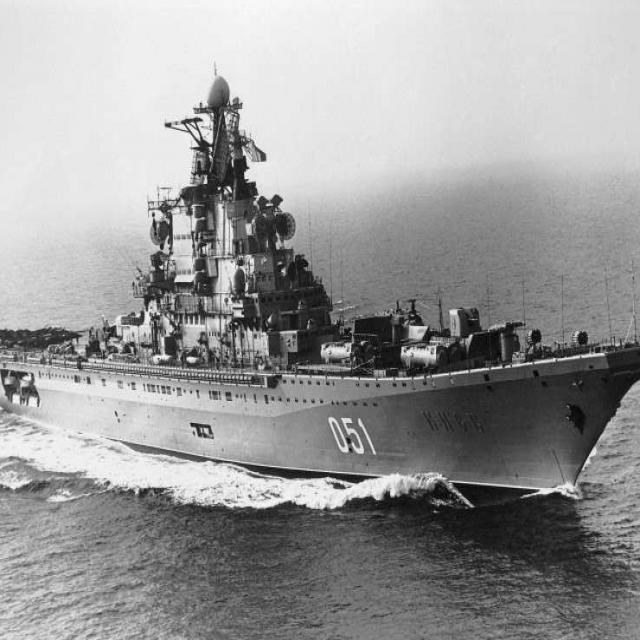Portanaves: (1, 49, 640, 523)
